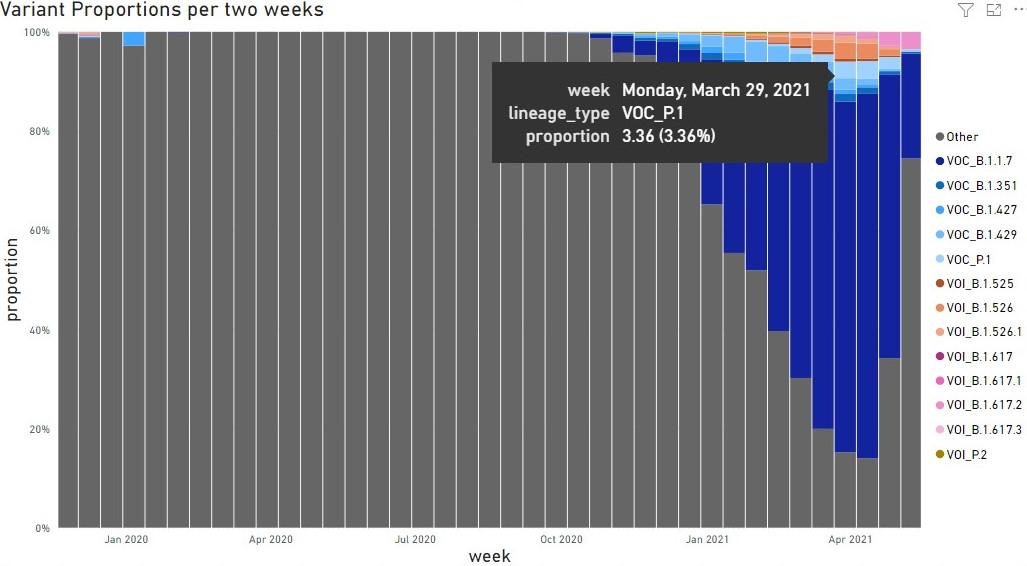

What the dashboard file says about the page in this screenshot:
{"tool":"powerbi","page":{"name":"var props","canvas":[1280,720],"ordinal":0},"visuals":[{"type":"hundredPercentStackedColumnChart","title":"Variant Proportions per two weeks","fields":{"Category":["lineage_prevalence_by_2week2021-05-19.week"],"Series":["lineage_prevalence_by_2week2021-05-19.lineage_type"],"Y":["Sum(lineage_prevalence_by_2week2021-05-19.proportion)"]},"box":[16,16,1248,688],"z":0}]}

Visuals, with their boxes in screenshot pixels (x1, y1, x2, y2), scaled from the page's 1280x720 canvas onto the 1027x566 screenshot:
"Variant Proportions per two weeks" hundredPercentStackedColumnChart: 13 13 1014 553
